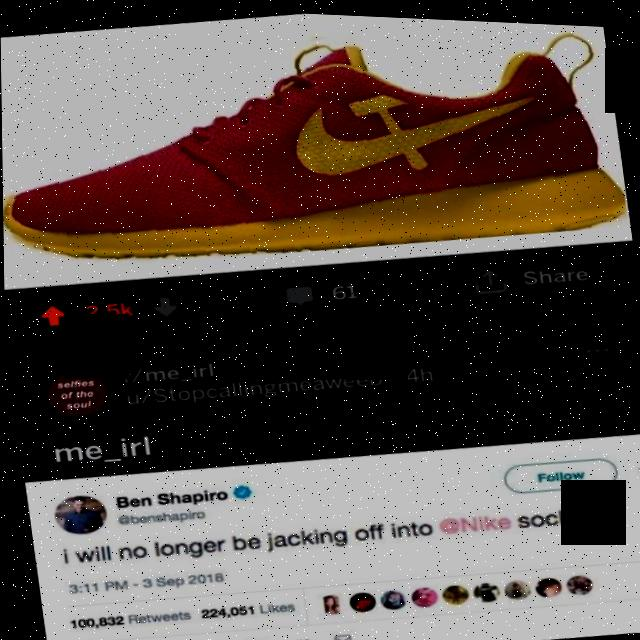shoe: (0, 0, 628, 297)
